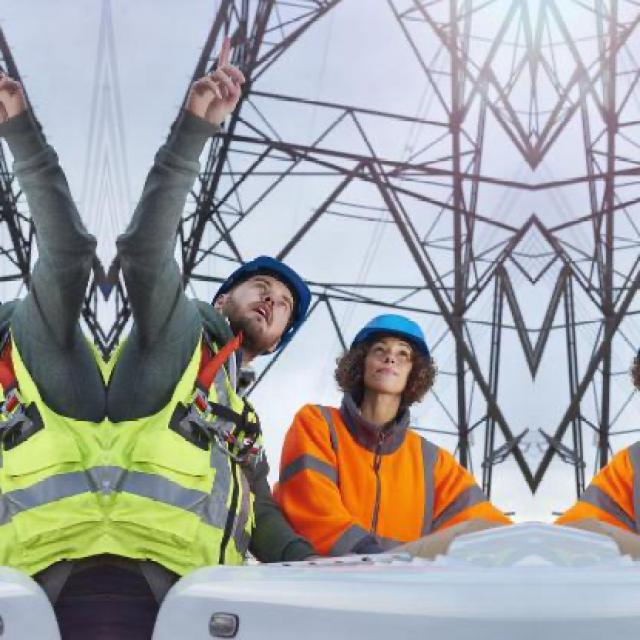helmet: (338, 297, 442, 417), (211, 245, 310, 352)
